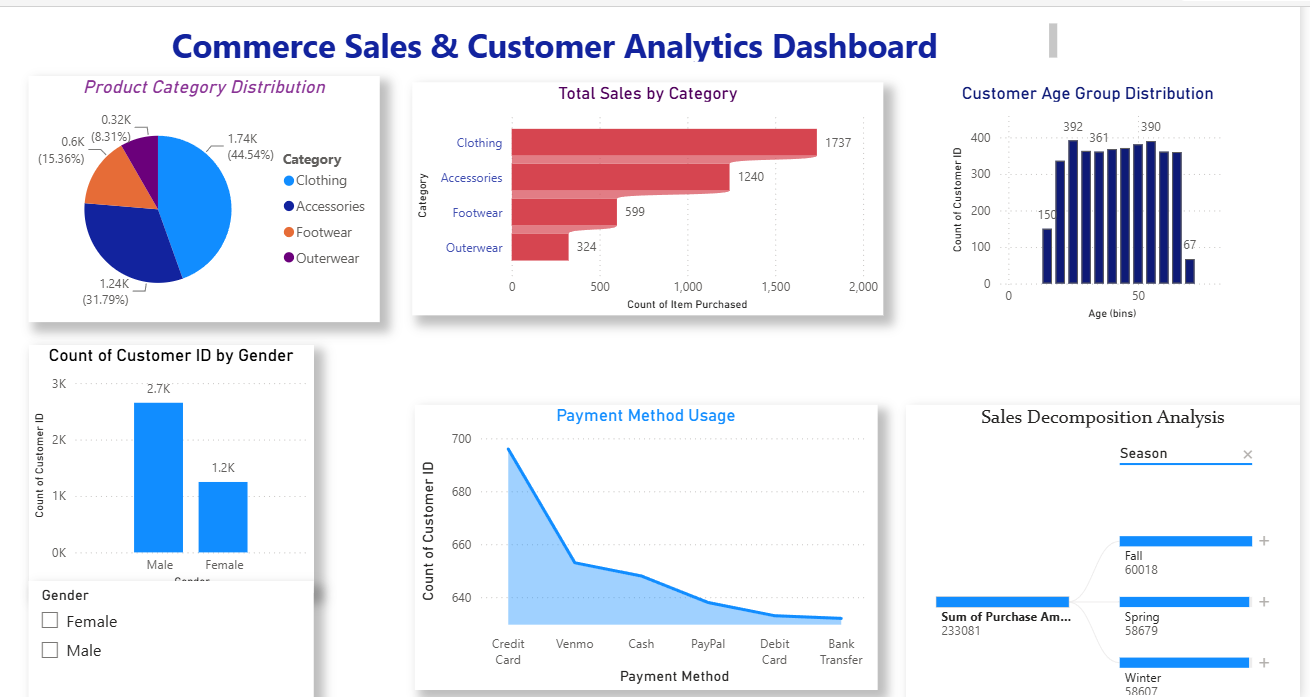

The page's visual inventory and layout, read from the dashboard file:
{"tool":"powerbi","page":{"name":"Page 1","canvas":[1280,720],"ordinal":0},"visuals":[{"type":"pieChart","title":"Product Category Distribution","fields":{"Category":["shopping_trends.Category"],"Y":["CountNonNull(shopping_trends.Customer ID)"]},"box":[32.3,52.2,344.6,279.9],"z":0},{"type":"areaChart","title":"Payment Method Usage","fields":{"Category":["shopping_trends.Payment Method"],"Y":["CountNonNull(shopping_trends.Customer ID)"]},"box":[419.2,419.2,454,279.9],"z":1000},{"type":"clusteredColumnChart","fields":{"Category":["shopping_trends.Gender"],"Y":["CountNonNull(shopping_trends.Customer ID)"]},"box":[97,359.5,279.9,279.9],"z":2000},{"type":"barChart","title":"Total Sales by Category","fields":{"Category":["shopping_trends.Category"],"Y":["CountNonNull(shopping_trends.Item Purchased)"]},"box":[419.2,69.7,462.8,289.8],"z":3000},{"type":"clusteredColumnChart","title":"Customer Age Group Distribution","fields":{"Category":["shopping_trends.Age (bins)"],"Y":["CountNonNull(shopping_trends.Customer ID)"]},"box":[974,79.6,276.2,279.9],"z":4000},{"type":"slicer","fields":{"Values":["shopping_trends.Gender"]},"box":[100.2,603.8,275.8,116.6],"z":5000},{"type":"decompositionTreeVisual","title":"Sales Decomposition Analysis","fields":{"Analyze":["Sum(shopping_trends.Purchase Amount (USD))"],"ExplainBy":["shopping_trends.Season","shopping_trends.Age","shopping_trends.Frequency of Purchases","shopping_trends.Payment Method","shopping_trends.Category","shopping_trends.Gender"]},"box":[893.2,430.4,386.9,289.8],"z":6000},{"type":"textbox","box":[237.6,0,998.9,51],"z":7000}]}

Visuals, with their boxes on the page's 1280x720 design canvas (x1, y1, x2, y2). These are canvas units, not pixel positions in the 1310x697 screenshot, which may show the page scaled, cropped or inside an application window:
"Product Category Distribution" pieChart: (32,52,377,332)
"Payment Method Usage" areaChart: (419,419,873,699)
clusteredColumnChart - shopping_trends.Gender x CountNonNull(shopping_trends.Customer ID): (97,360,377,639)
"Total Sales by Category" barChart: (419,70,882,360)
"Customer Age Group Distribution" clusteredColumnChart: (974,80,1250,360)
slicer - shopping_trends.Gender: (100,604,376,720)
"Sales Decomposition Analysis" decompositionTreeVisual: (893,430,1280,720)
textbox: (238,0,1236,51)
